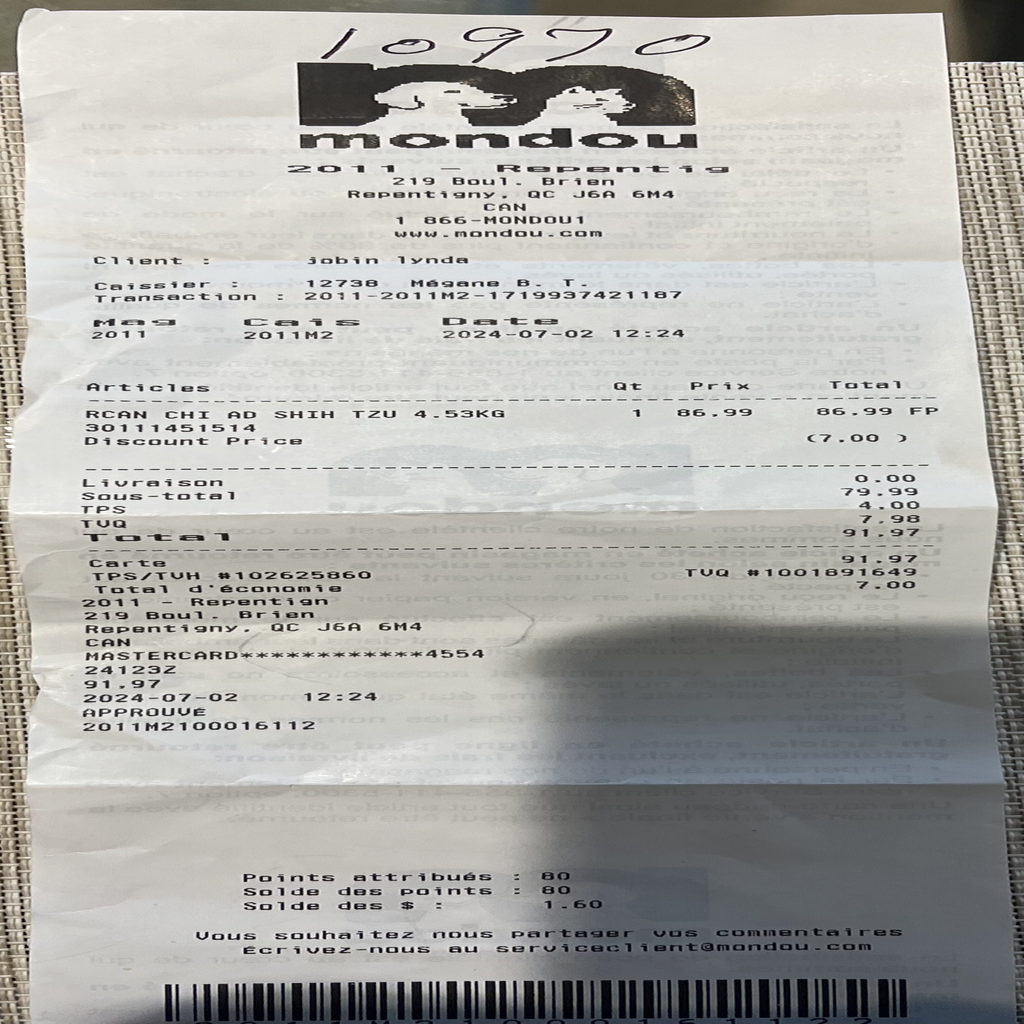recipt: (13, 13, 1014, 1020)
